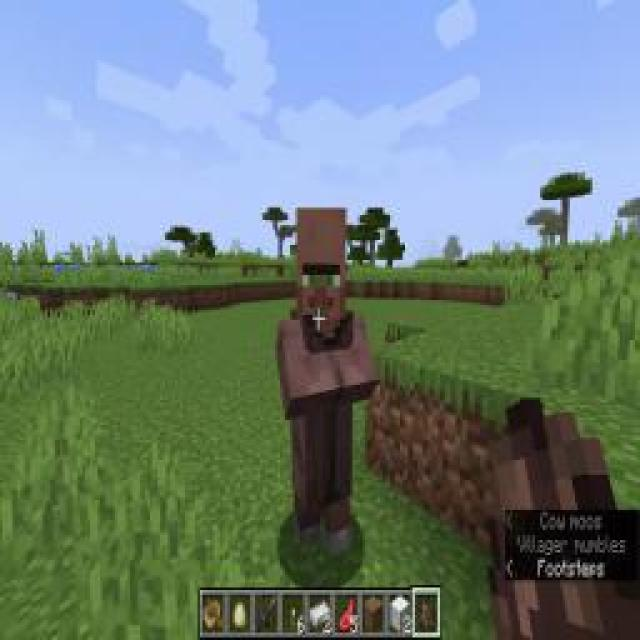Villager House: (271, 200, 384, 560)
